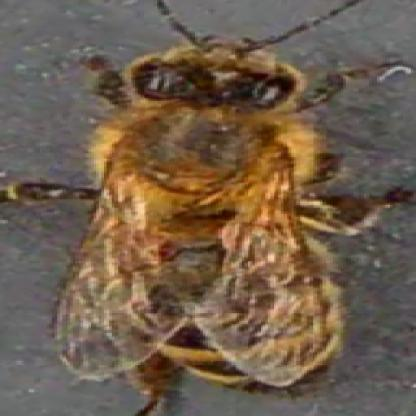bee: (66, 39, 368, 406)
